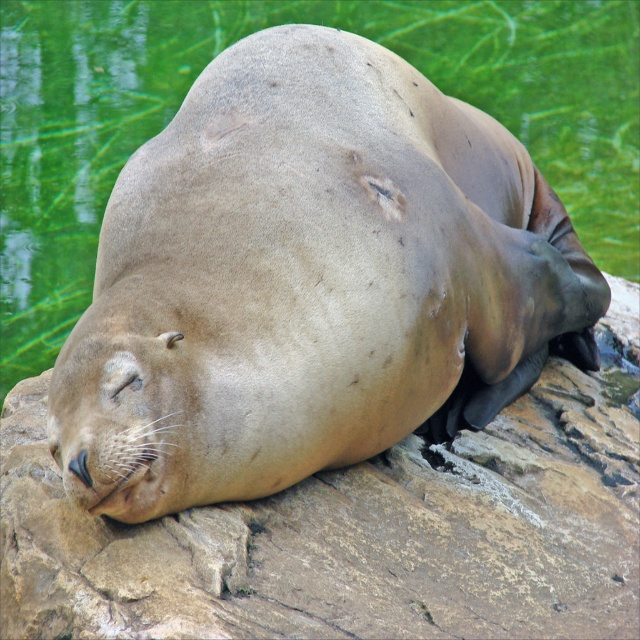Harbor seal: (47, 24, 612, 523)
